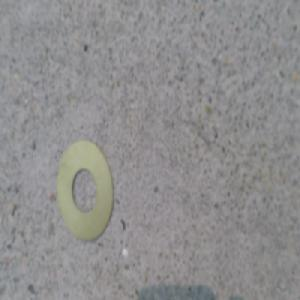Washer: (53, 134, 113, 239)
